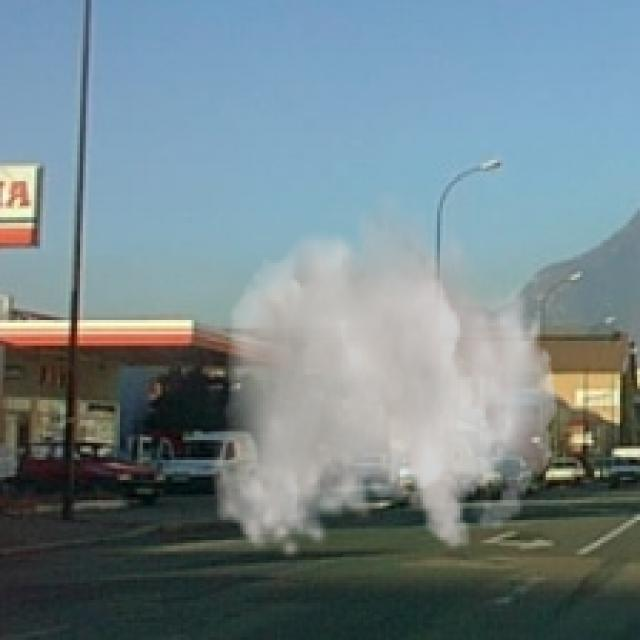Smoke: (212, 183, 557, 563)
